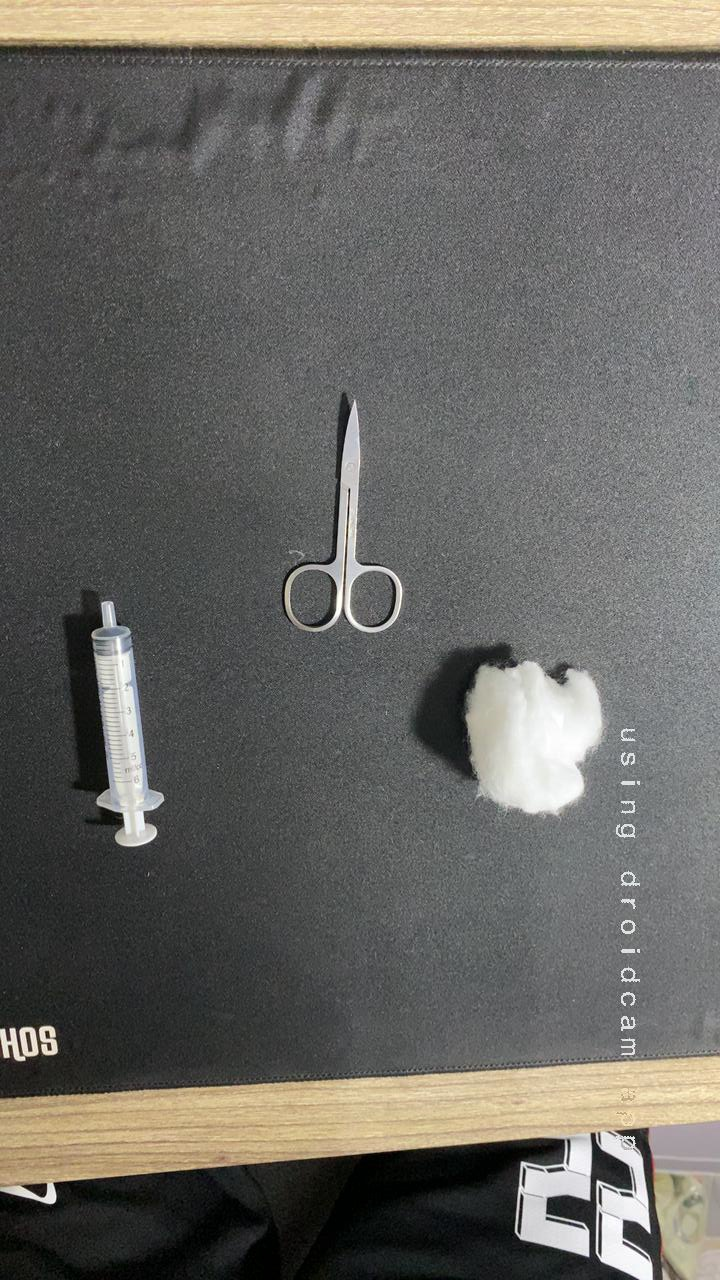cotton: (436, 638, 623, 832)
scissor: (249, 387, 417, 641)
syringe: (49, 587, 187, 866)
